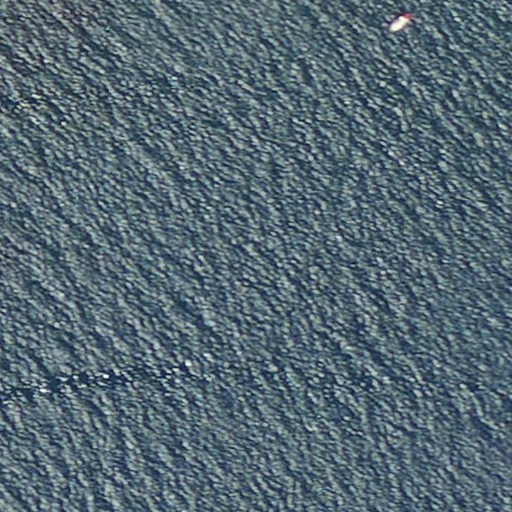ship: (387, 13, 412, 34)
